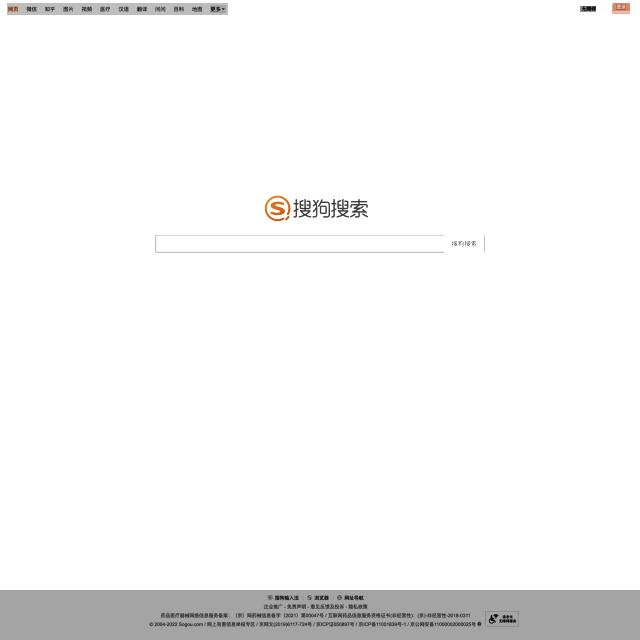CheckBox: (444, 236, 484, 255), (613, 4, 630, 14), (580, 6, 596, 12)
CheckedTextView: (155, 236, 485, 256)
alert: (210, 5, 226, 13)
badge: (0, 590, 640, 640)
data feed: (450, 240, 479, 250), (616, 6, 626, 12)
date picker: (262, 192, 372, 226)
decoration: (7, 3, 228, 15)
